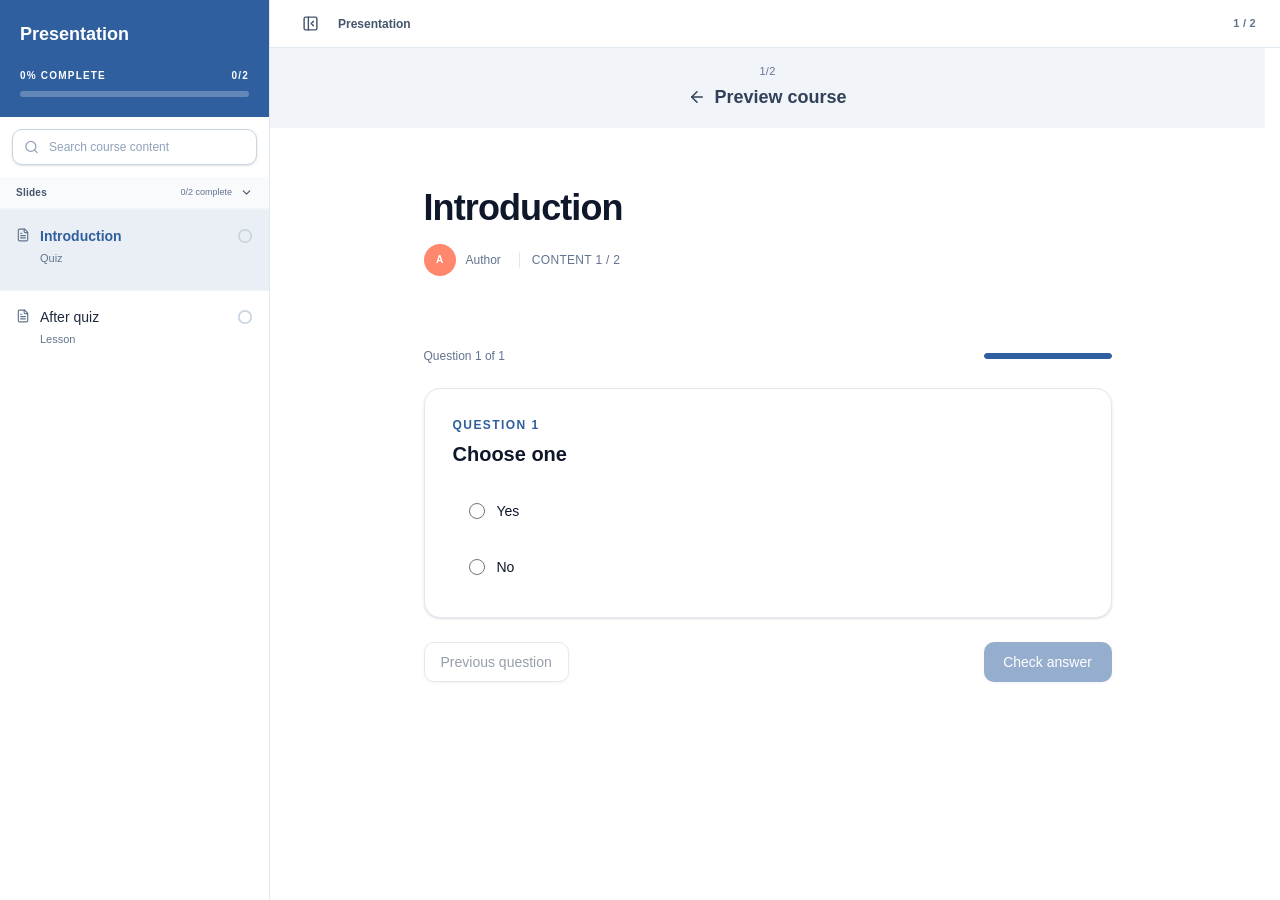
Scenario: presentation quiz slides › hides the standard footer link during a quiz and restores it after a result
The width and height of the screenshot is (1280, 900).
Click the radio button labelled "No" at (476, 566), box [468,558,484,574]
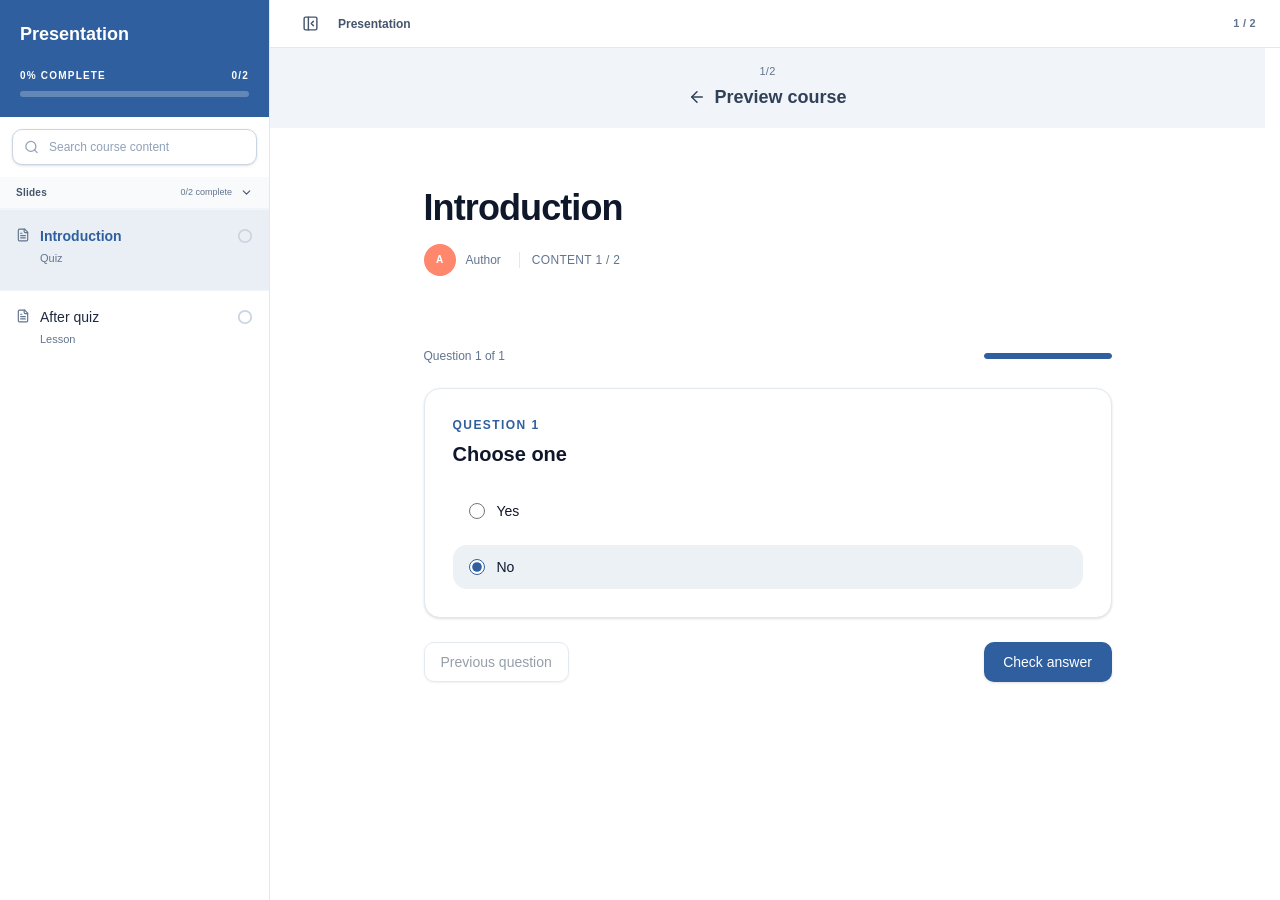
Click the button "Check answer" at (1048, 662), box [984,642,1112,682]
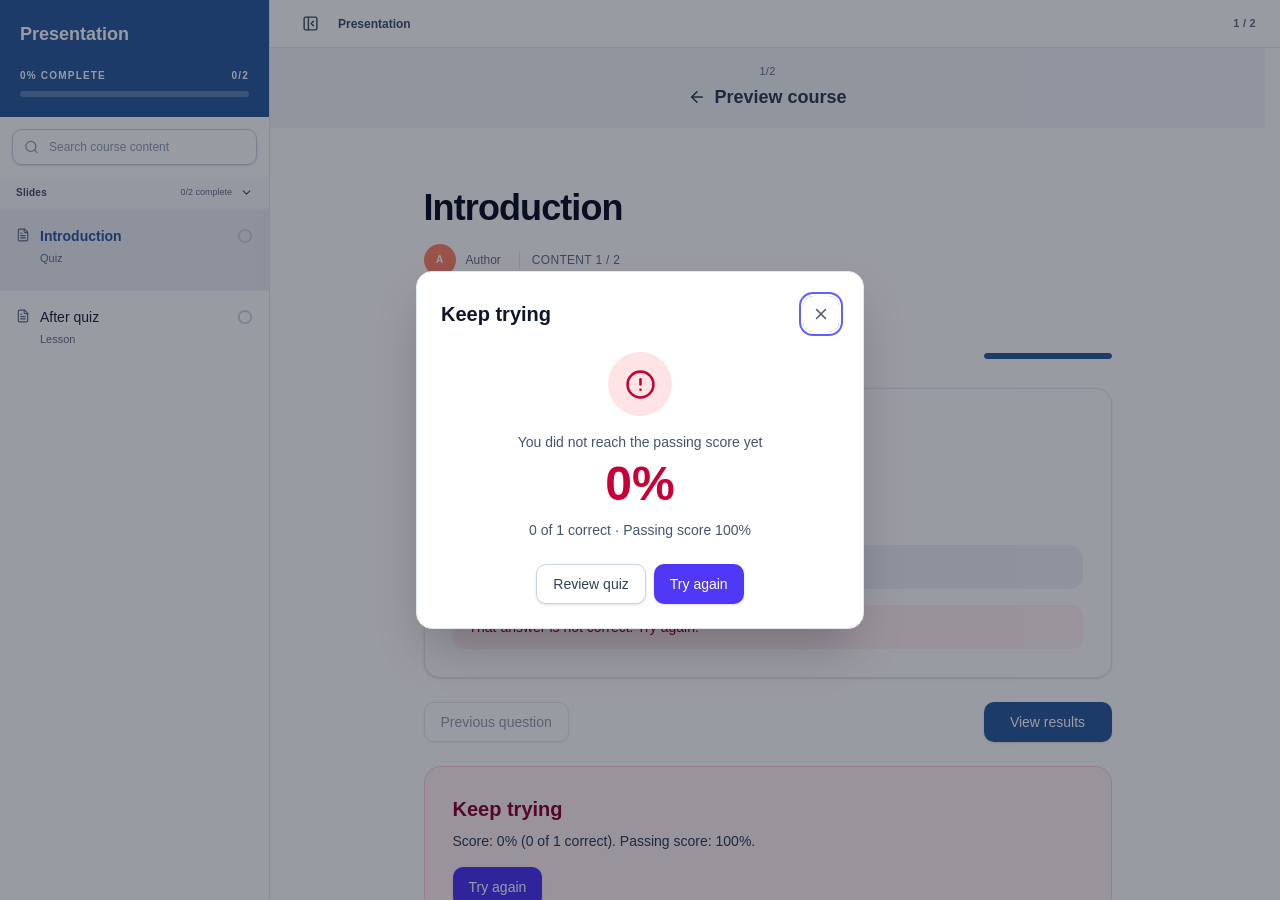
Result: the dialog shows "Keep trying" at [441,303,551,325]
Click the button "Try again" at (699, 584), box [654,564,744,604]
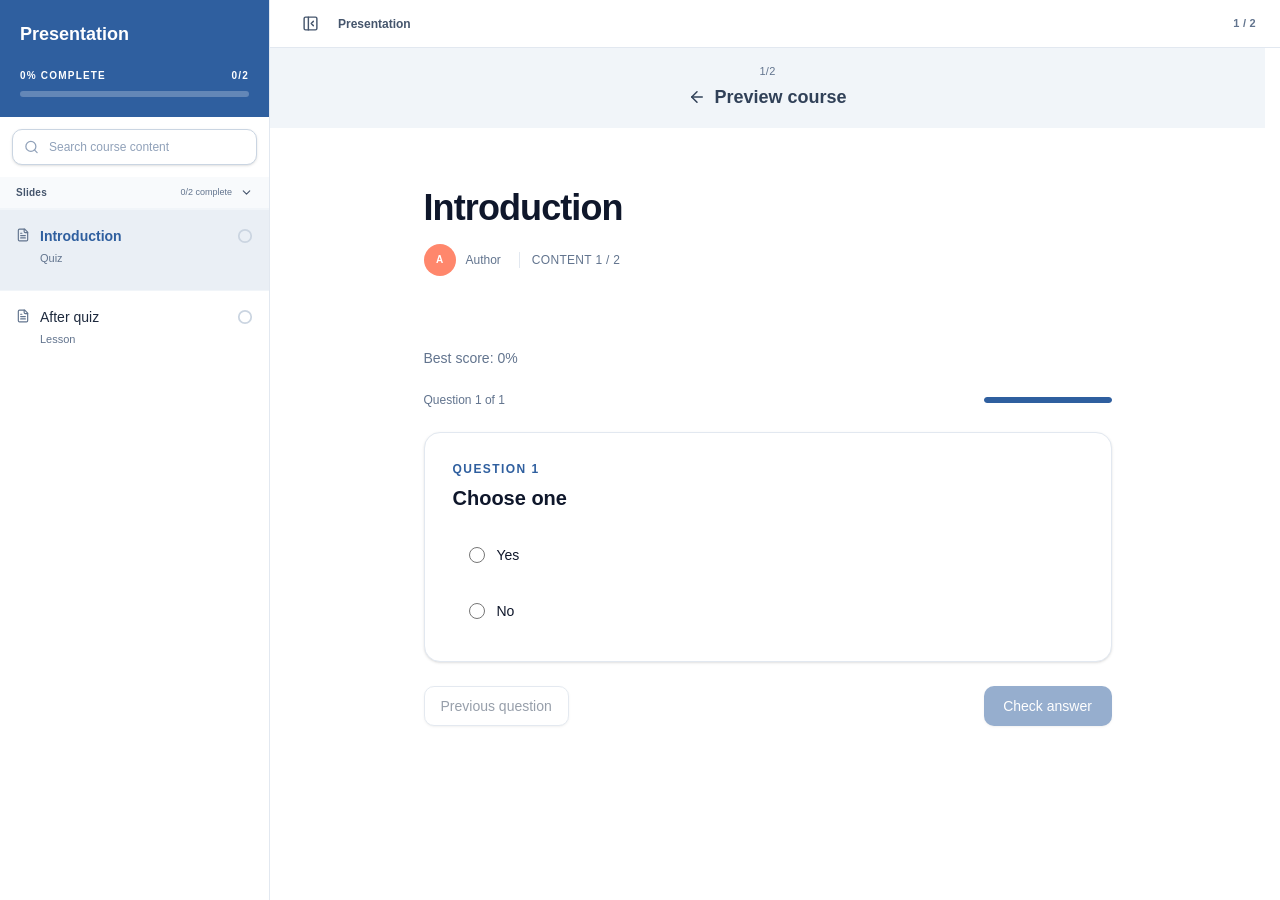
Result: the button "Review quiz" is gone
Click the radio button labelled "Yes" at (476, 554), box [468,546,484,562]
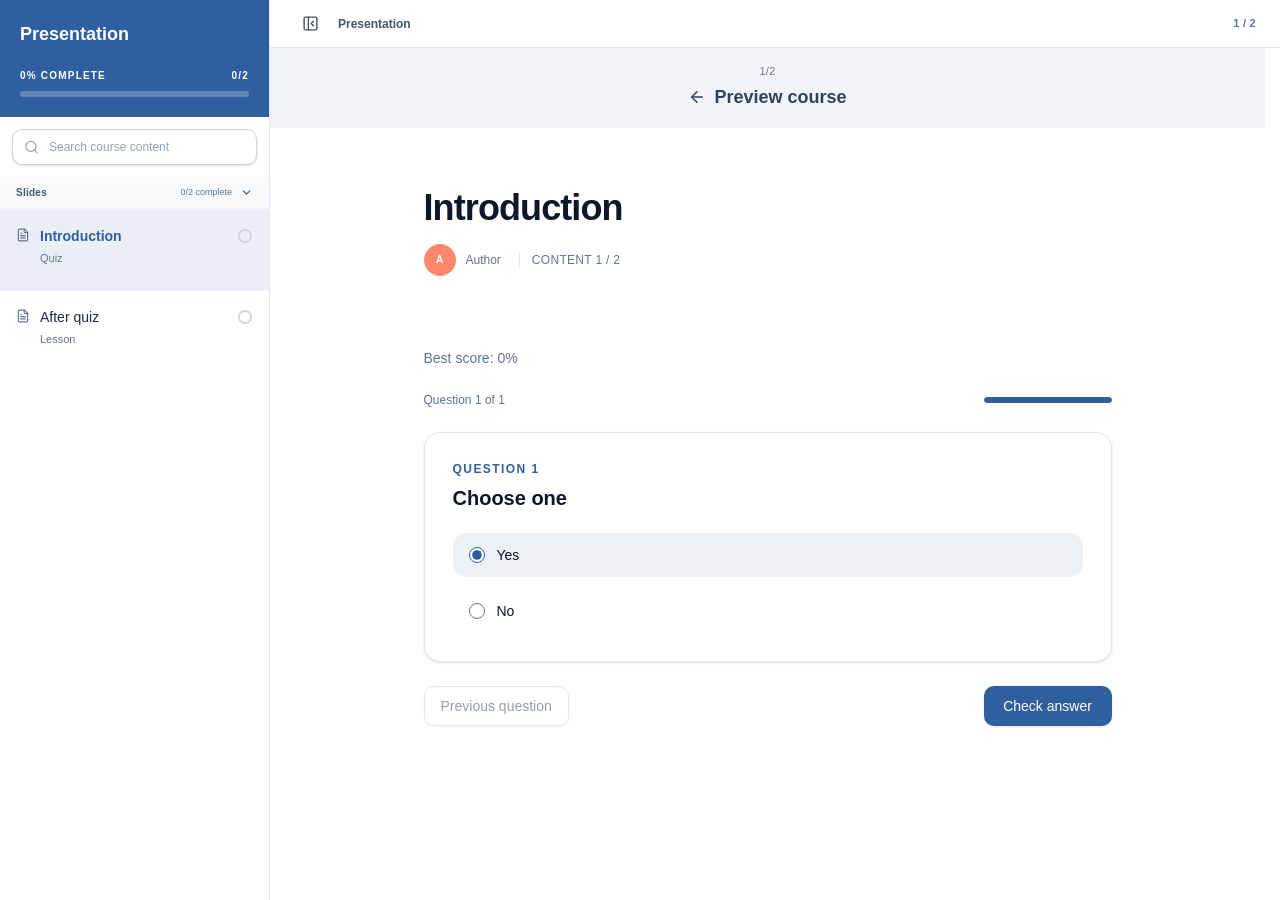
Click the button "Check answer" at (1048, 706), box [984,686,1112,726]
(page scrolled)
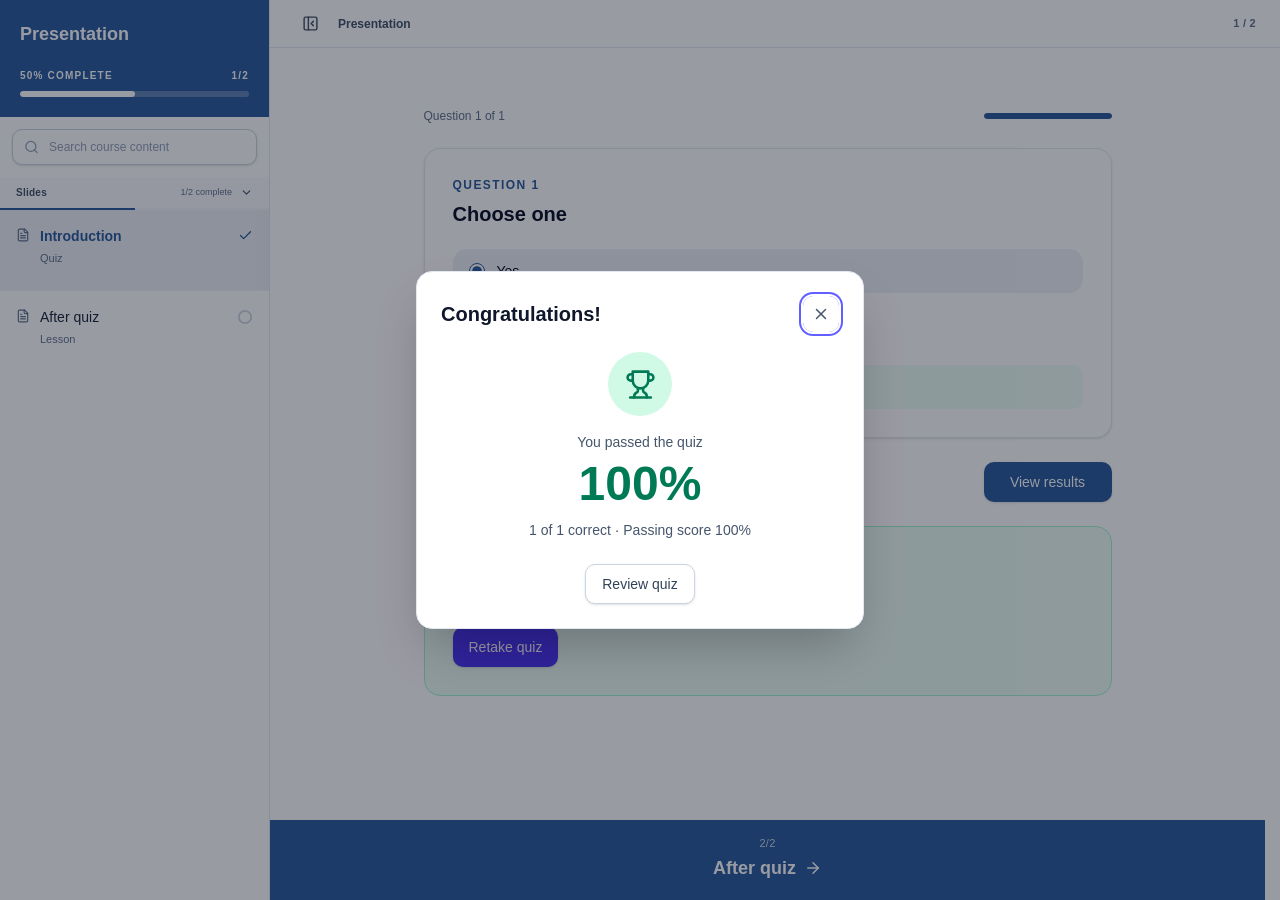
Result: the dialog shows "Congratulations!" at [441,303,601,325]
Result: the button "2/2 After quiz" is shown at [270,820,1265,899]
